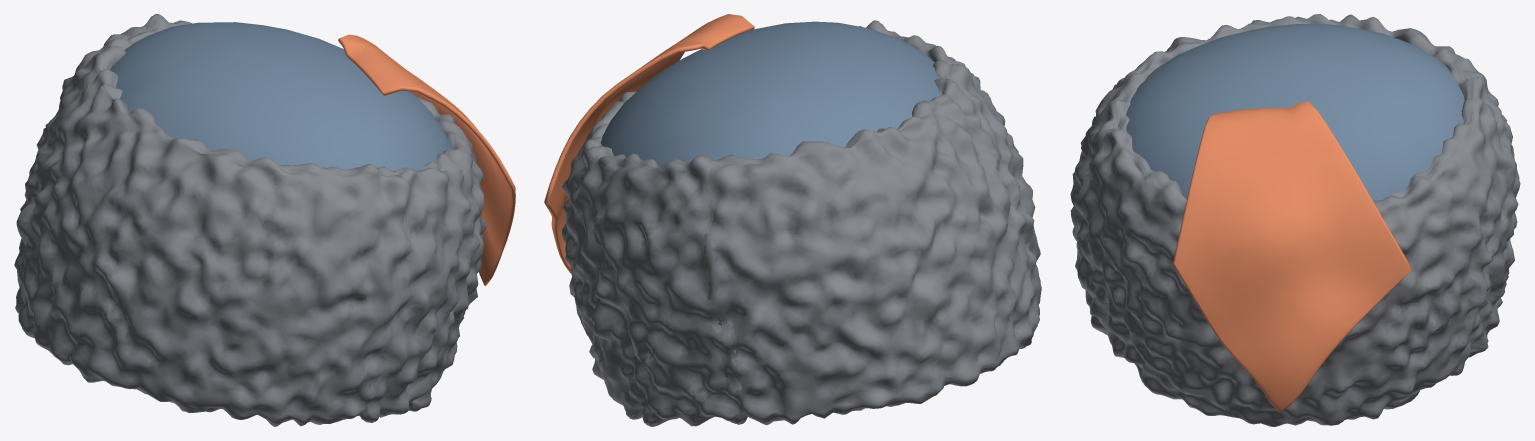
File: COSSACK_CAP_3#20.glb
3 views of the same model, side by side, from view 1: azimuth 30°, elevation 25°; view 2: azimuth 150°, elevation 25°; view 3: azimuth 270°, elevation 25° (orthographic). The views are drawn at different scales.
Parts seen in each view (by area): view 1: казак_шапка_3_ур_поза_выставленная; view 2: казак_шапка_3_ур_поза_выставленная; view 3: казак_шапка_3_ур_поза_выставленная.
Part boxes in pixels (box(x1,y1,x2,y2)): казак_шапка_3_ур_поза_выставленная: box(14, 14, 515, 426); казак_шапка_3_ур_поза_выставленная: box(544, 14, 1041, 426); казак_шапка_3_ур_поза_выставленная: box(1070, 14, 1520, 426).
Bounding box in the file's own units: 1.38 × 1.01 × 1.32.
